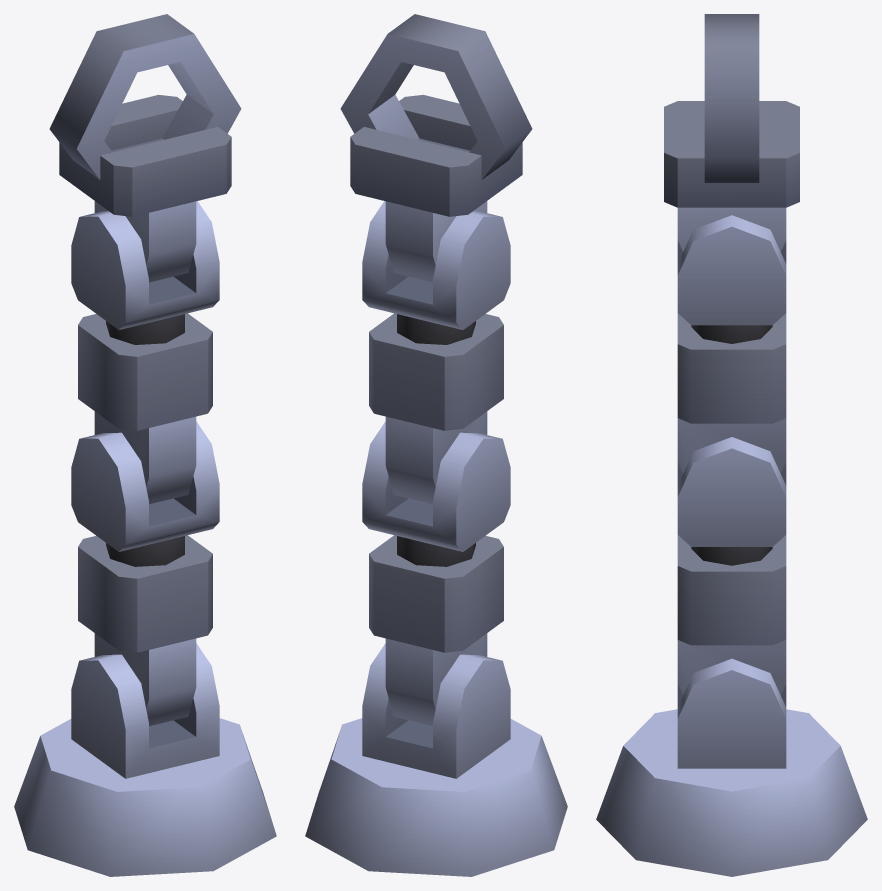
3 renders of one model, left to right at view 1: azimuth 30°, elevation 25°; view 2: azimuth 150°, elevation 25°; view 3: azimuth 270°, elevation 25°, orthographic.
Parts seen in each view (by area): view 1: robot_arm_a, element_b, element_d, element_f, element_a, element_c, element_e, claw_b, claw_a; view 2: robot_arm_a, element_b, element_d, element_f, element_a, element_c, element_e, claw_b, claw_a; view 3: robot_arm_a, element_d, element_b, element_f, element_a, element_e, element_c, claw_a, claw_b.
Part boxes in pixels (x1=…): robot_arm_a: x1=14, y1=718, x2=276, y2=876; element_b: x1=78, y1=535, x2=212, y2=726; element_d: x1=78, y1=313, x2=212, y2=504; element_f: x1=59, y1=94, x2=231, y2=282; element_a: x1=71, y1=643, x2=219, y2=778; element_c: x1=71, y1=421, x2=219, y2=551; element_e: x1=71, y1=201, x2=219, y2=329; claw_b: x1=49, y1=22, x2=158, y2=179; claw_a: x1=132, y1=14, x2=241, y2=139; robot_arm_a: x1=305, y1=718, x2=567, y2=876; element_b: x1=369, y1=535, x2=503, y2=726; element_d: x1=369, y1=313, x2=503, y2=504; element_f: x1=350, y1=94, x2=522, y2=282; element_a: x1=362, y1=643, x2=510, y2=778; element_c: x1=362, y1=421, x2=510, y2=551; element_e: x1=362, y1=201, x2=510, y2=329; claw_b: x1=423, y1=22, x2=532, y2=179; claw_a: x1=340, y1=14, x2=449, y2=139; robot_arm_a: x1=596, y1=709, x2=867, y2=876; element_d: x1=677, y1=313, x2=786, y2=473; element_b: x1=677, y1=535, x2=786, y2=694; element_f: x1=664, y1=101, x2=799, y2=251; element_a: x1=677, y1=658, x2=786, y2=768; element_e: x1=677, y1=215, x2=786, y2=325; element_c: x1=677, y1=437, x2=786, y2=546; claw_a: x1=704, y1=31, x2=759, y2=182; claw_b: x1=704, y1=14, x2=759, y2=31.
Bounding box in the file's own units: 1 × 3.2 × 1.
Materials: 1 (1 with a texture image).
